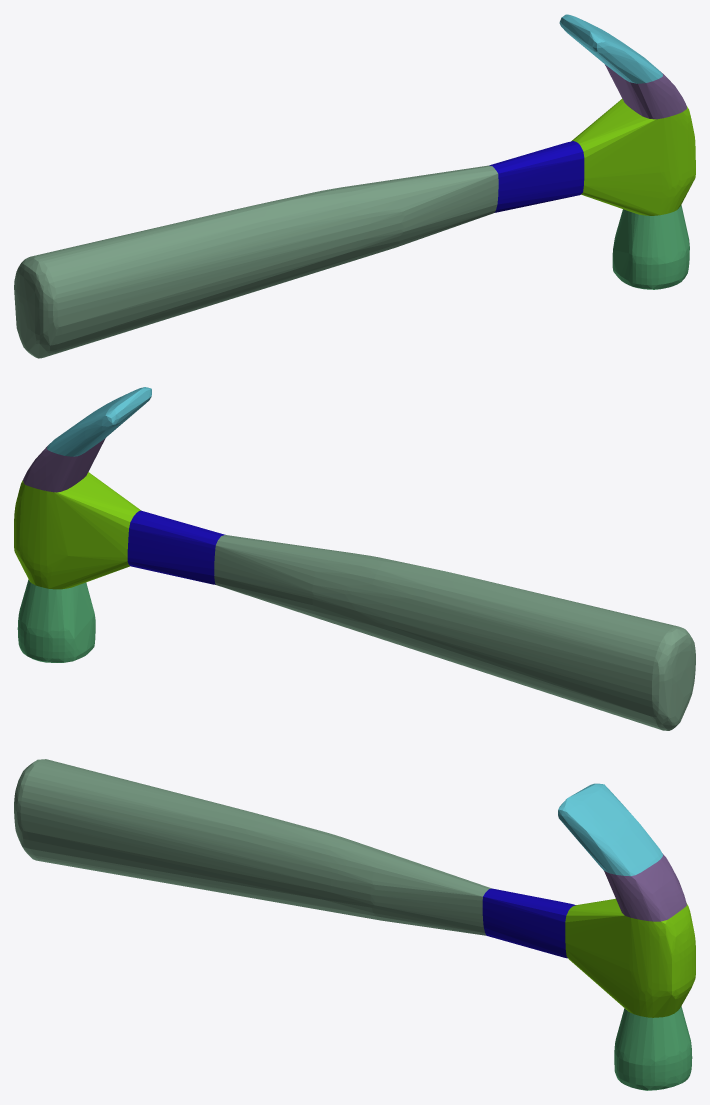
File: coacd_collision.obj
3 renders of one model, top to bottom at view 1: azimuth 30°, elevation 25°; view 2: azimuth 150°, elevation 25°; view 3: azimuth 330°, elevation 25°, orthographic.
Parts seen in each view (by area): view 1: geometry_0, geometry_4, geometry_3, geometry_5, geometry_2, geometry_1; view 2: geometry_0, geometry_4, geometry_3, geometry_5, geometry_2, geometry_1; view 3: geometry_0, geometry_4, geometry_2, geometry_3, geometry_5, geometry_1.
Boxes of the visible parts, x1=… form: geometry_0: x1=14, y1=165, x2=498, y2=358; geometry_4: x1=571, y1=98, x2=695, y2=215; geometry_3: x1=612, y1=205, x2=689, y2=289; geometry_5: x1=489, y1=141, x2=584, y2=212; geometry_2: x1=559, y1=14, x2=662, y2=83; geometry_1: x1=605, y1=64, x2=686, y2=119; geometry_0: x1=214, y1=535, x2=695, y2=730; geometry_4: x1=14, y1=472, x2=140, y2=589; geometry_3: x1=17, y1=579, x2=95, y2=662; geometry_5: x1=127, y1=510, x2=225, y2=584; geometry_2: x1=47, y1=387, x2=151, y2=456; geometry_1: x1=23, y1=438, x2=105, y2=492; geometry_0: x1=14, y1=759, x2=491, y2=935; geometry_4: x1=565, y1=898, x2=695, y2=1017; geometry_2: x1=558, y1=783, x2=662, y2=876; geometry_3: x1=614, y1=1006, x2=692, y2=1090; geometry_5: x1=482, y1=888, x2=575, y2=958; geometry_1: x1=604, y1=853, x2=686, y2=921.
Bounding box in the file's own units: 326 × 129 × 34.39.
